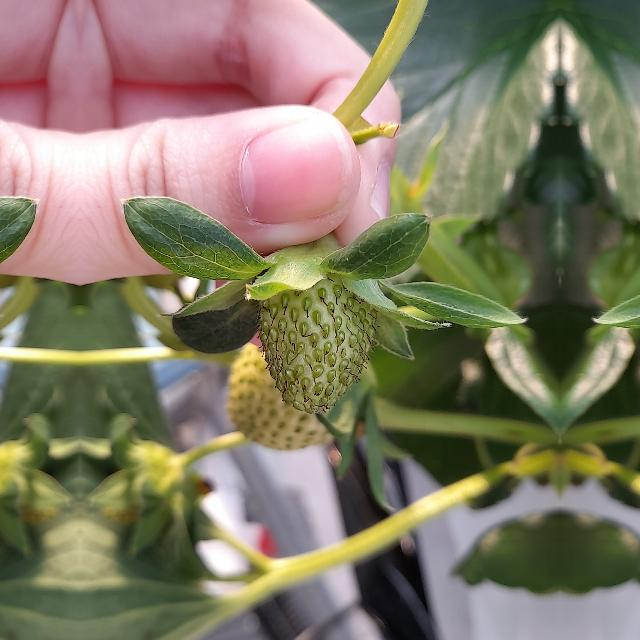Health_25: (255, 270, 379, 414)
